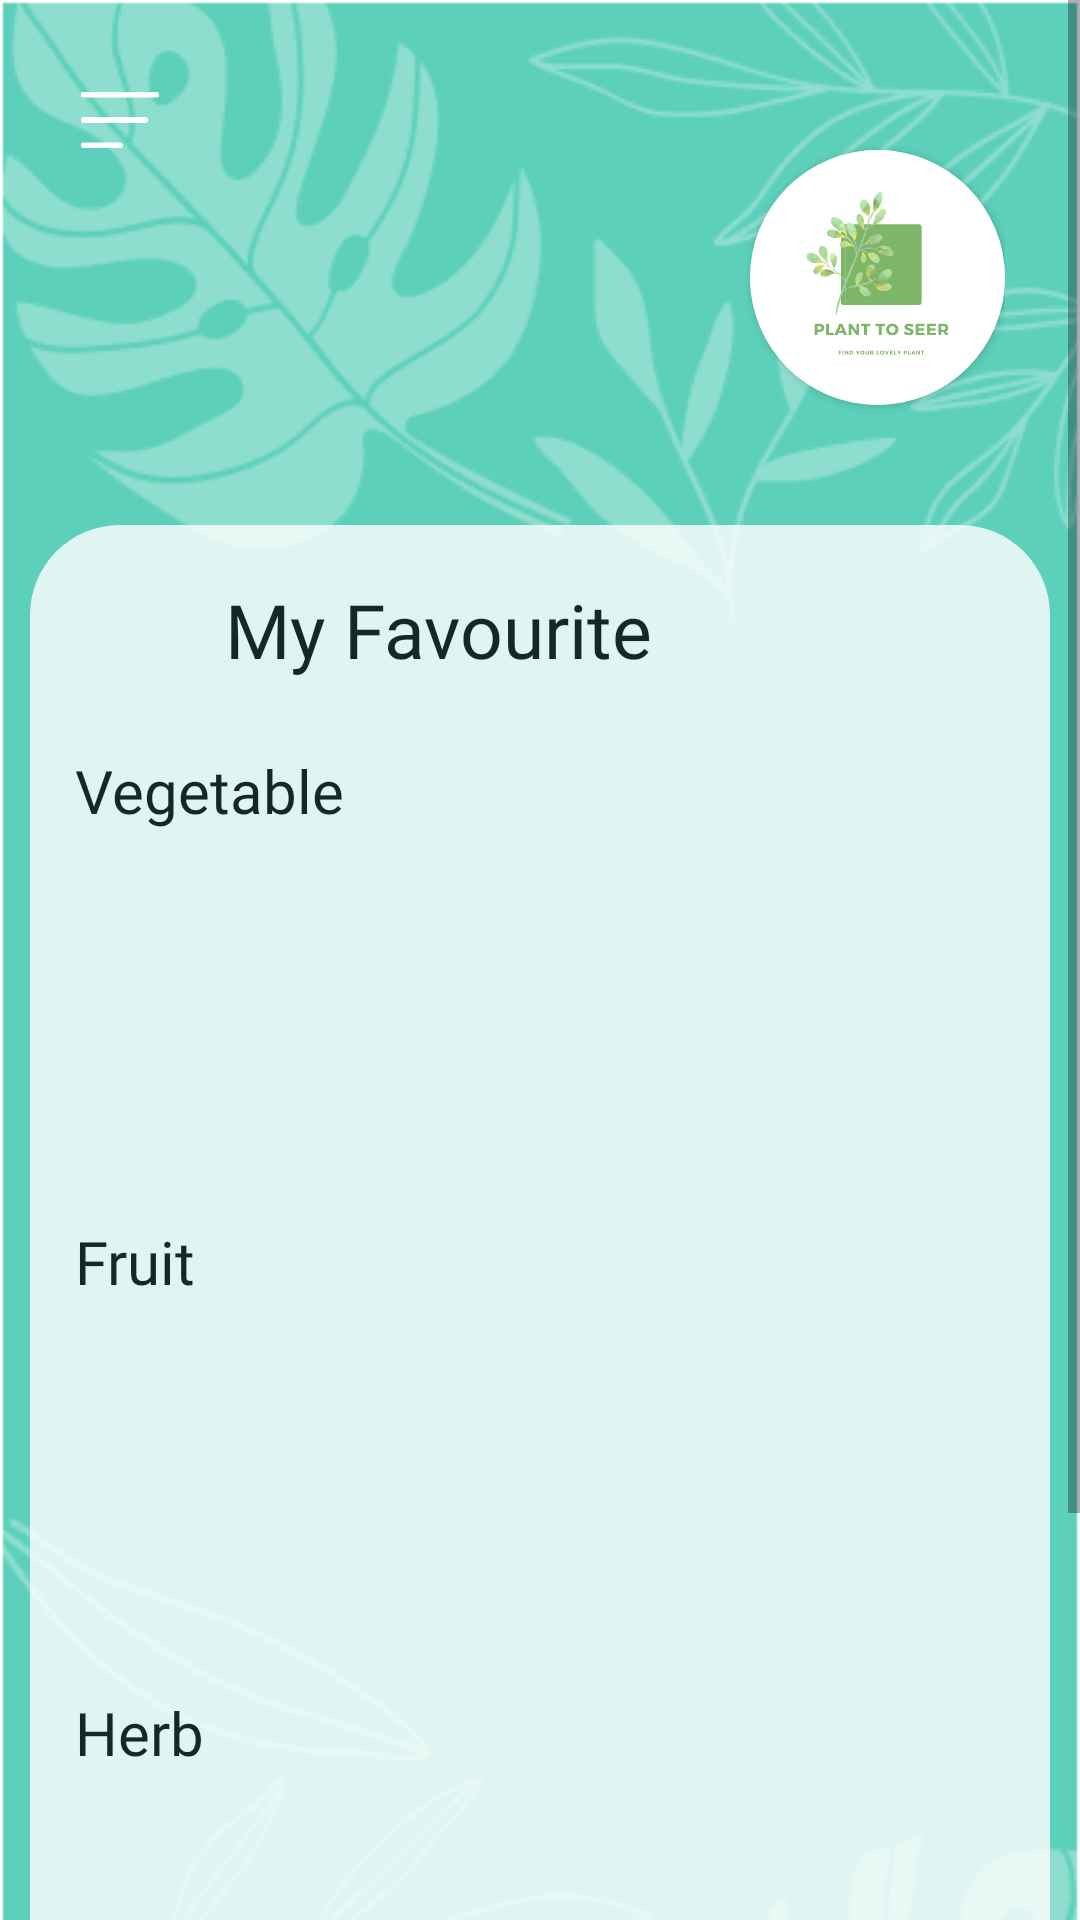

Icon click points for this 1080px×1920px phone screenshot, format (x,y):
list: (120,120)
